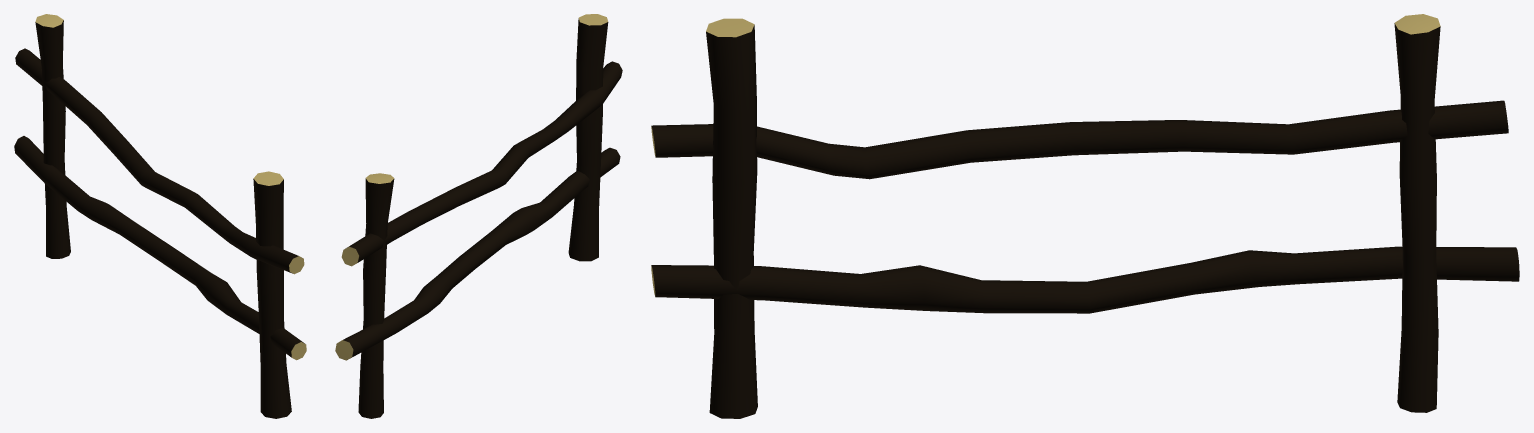
The model's file is fence6.fbx.
3 renders of one model, left to right at view 1: azimuth 30°, elevation 25°; view 2: azimuth 150°, elevation 25°; view 3: azimuth 270°, elevation 25°, orthographic. The views are drawn at different scales.
Parts seen in each view (by area): view 1: fence6_LOD0; view 2: fence6_LOD0; view 3: fence6_LOD0.
Boxes of the visible parts, left/top/right/bottom form: fence6_LOD0: left=14, top=14, right=306, bottom=418; fence6_LOD0: left=335, top=14, right=622, bottom=418; fence6_LOD0: left=651, top=14, right=1519, bottom=418.
Size of what is drawn, in the model's own units: 45.99 by 239 by 496.
